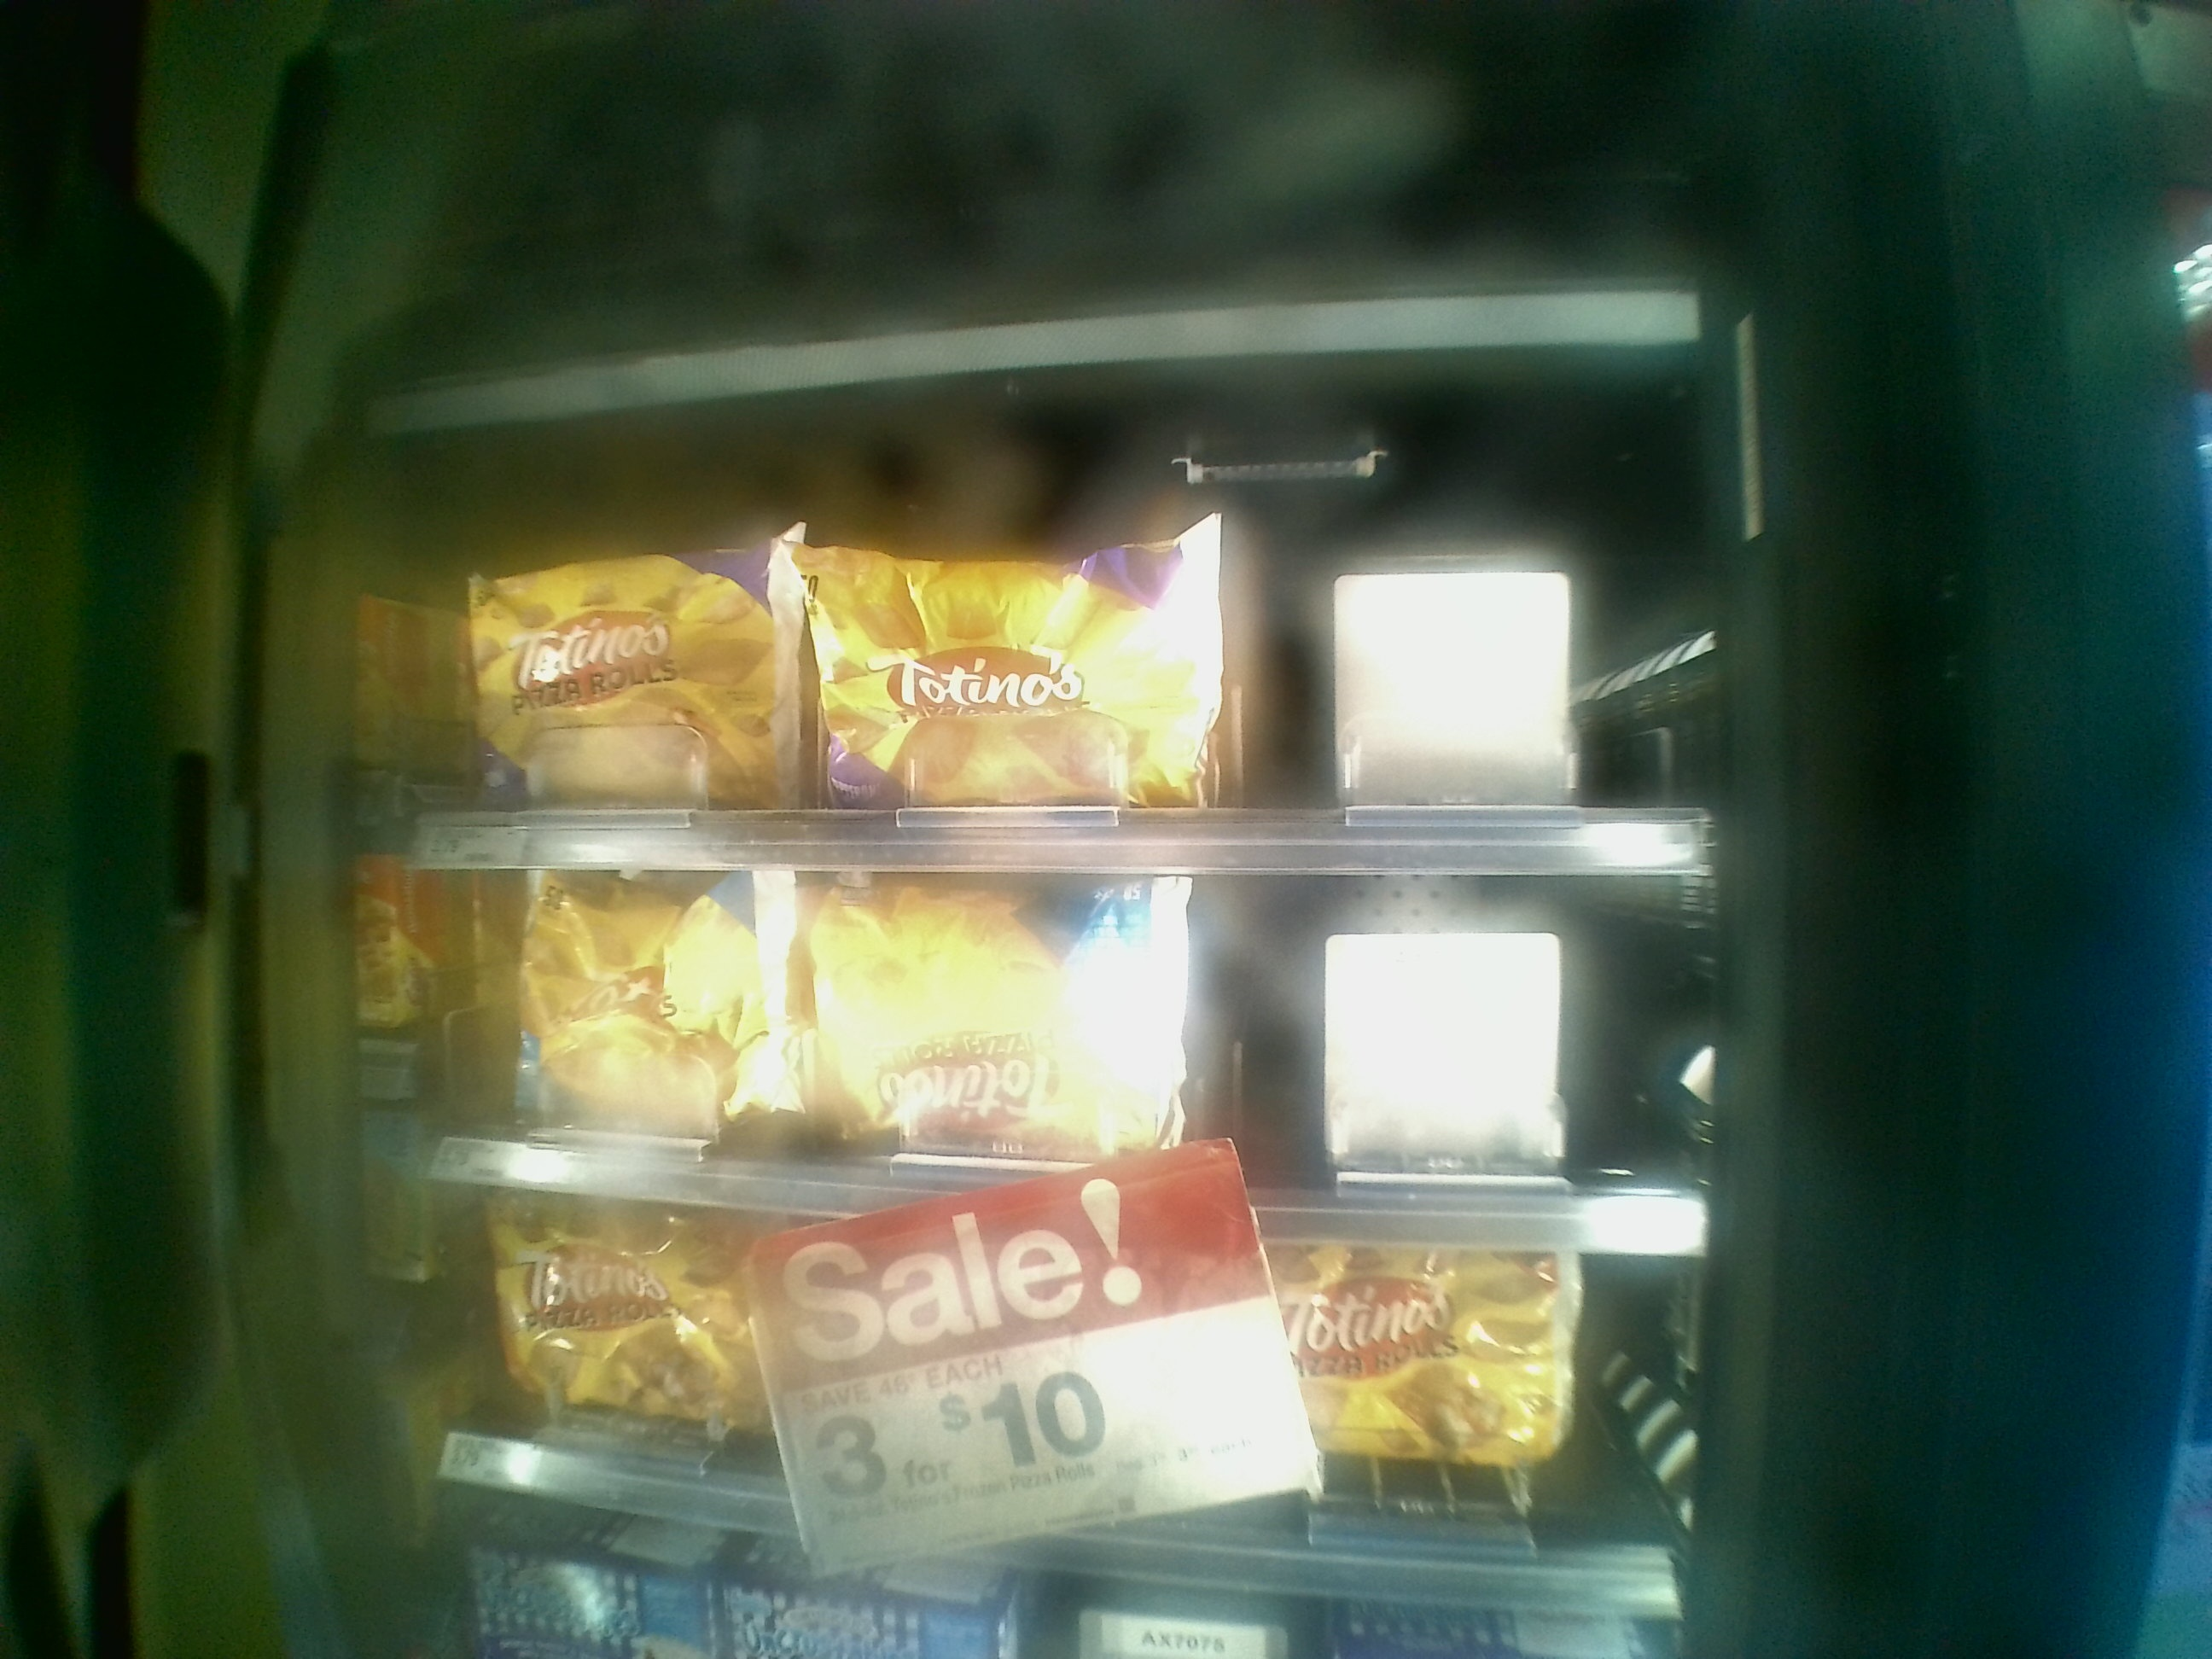shelf: (361, 382, 1710, 870), (394, 1204, 1698, 1612), (392, 864, 1702, 1267)
